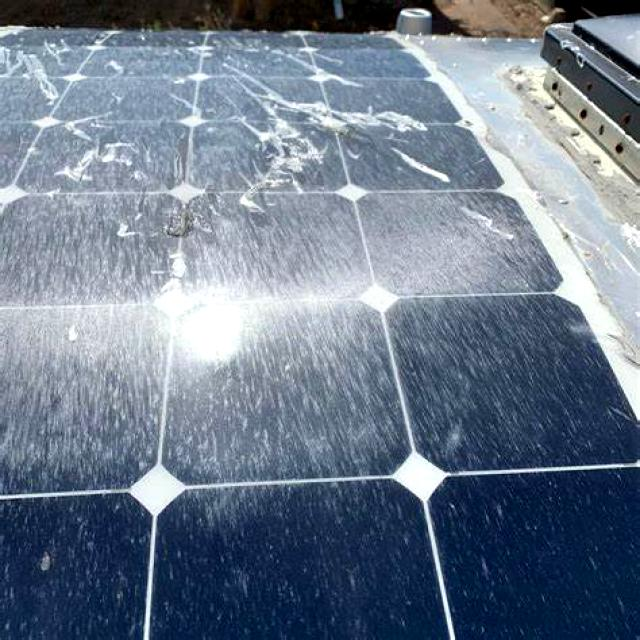bird: (203, 73, 430, 213), (62, 150, 140, 187), (58, 109, 66, 112)
